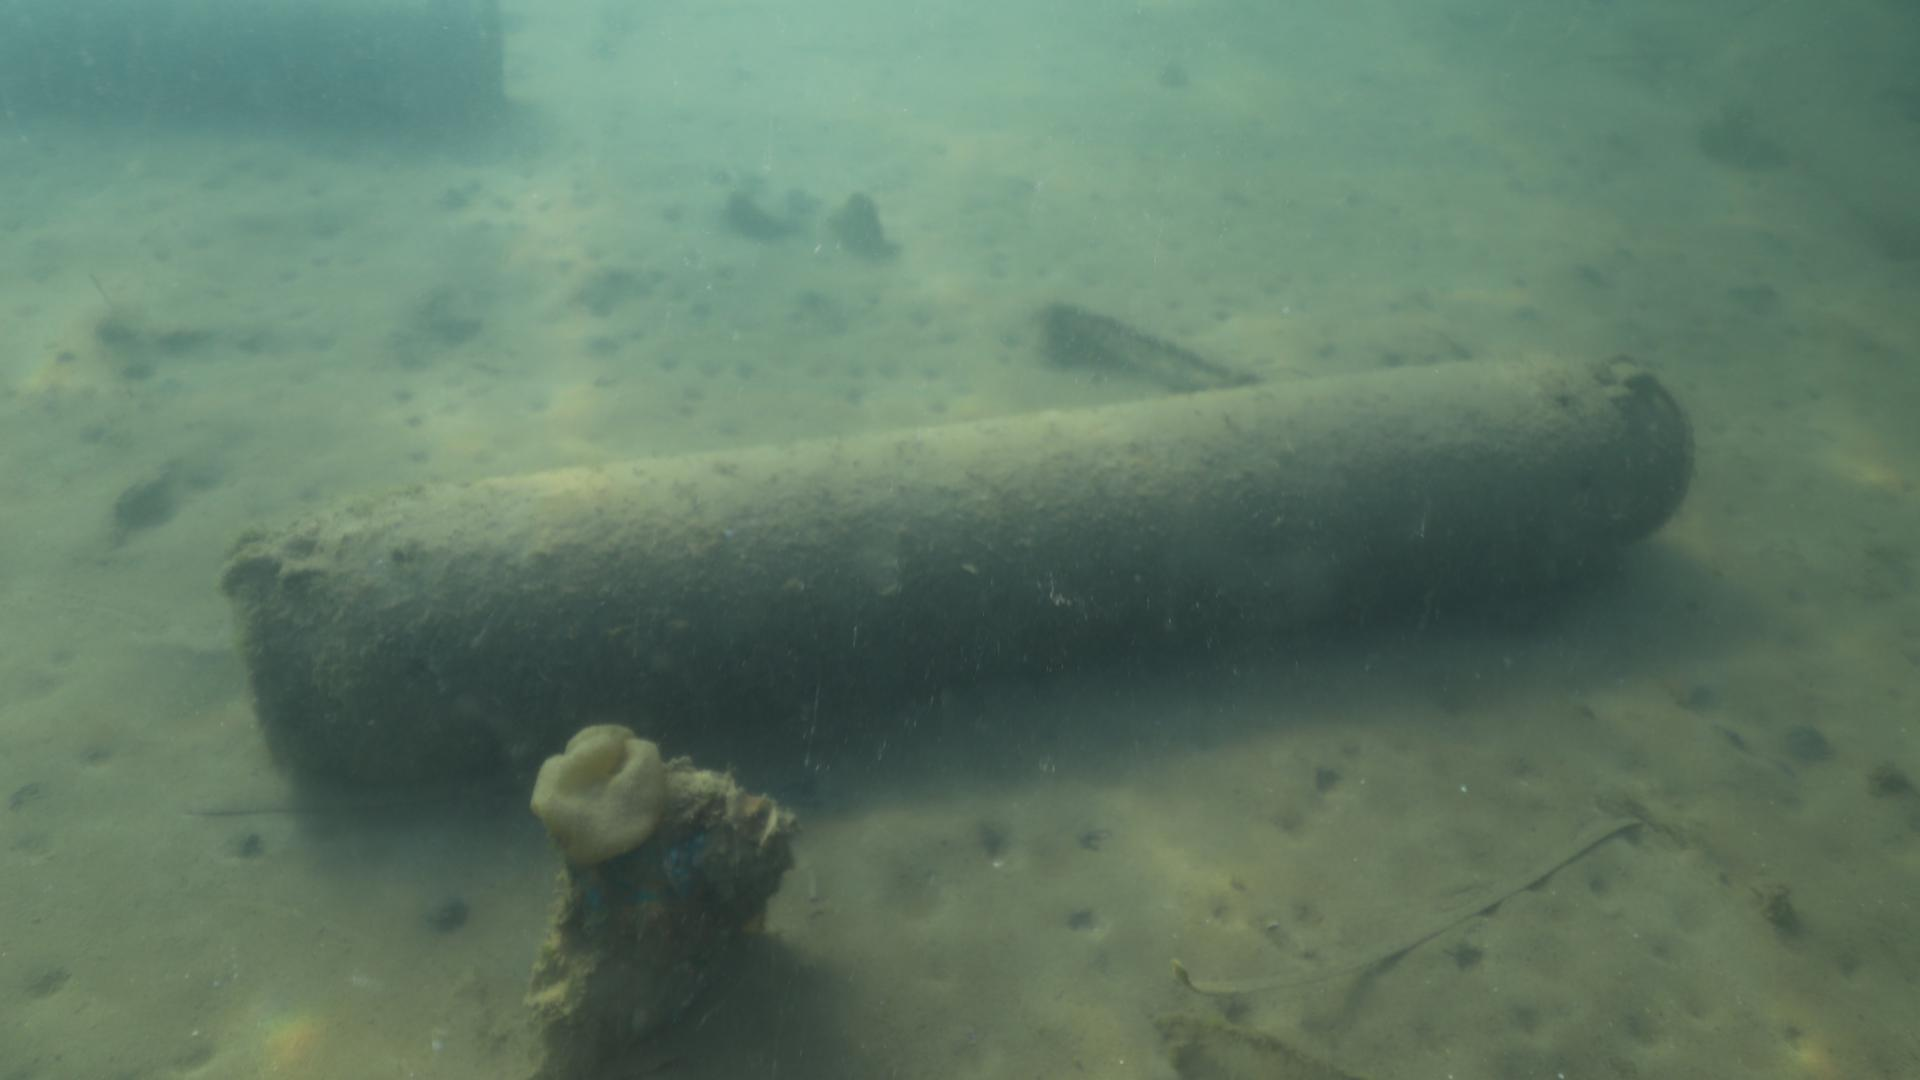eel fish trap: (227, 359, 1688, 794)
